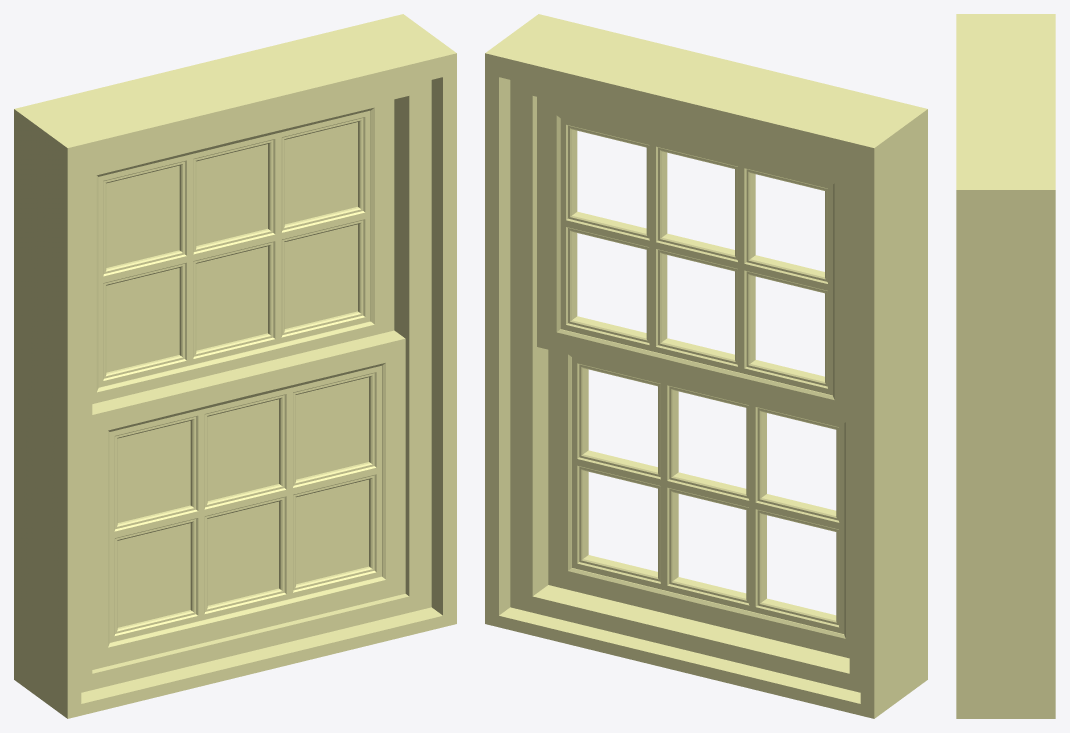
The model's file is MangaKa Props - M_R_Window_18.glb.
3 views of the same model, side by side, from view 1: azimuth 30°, elevation 25°; view 2: azimuth 150°, elevation 25°; view 3: azimuth 270°, elevation 25° (orthographic). The views are drawn at different scales.
Visible parts, largest first — view 1: M_R_Window_18_blueScreen, M_R_Window_18_Window1_blueScreen, M_R_Window_18_Window2Glass_blueScreen, M_R_Window_18_Window1Glass_blueScreen, M_R_Window_18_Window2_blueScreen; view 2: M_R_Window_18_blueScreen, M_R_Window_18_Window2_blueScreen, M_R_Window_18_Window1_blueScreen; view 3: M_R_Window_18_blueScreen.
Boxes of the visible parts, x1,y1,x2,y2 form: M_R_Window_18_blueScreen: (14,14,456,718); M_R_Window_18_Window1_blueScreen: (92,330,405,669); M_R_Window_18_Window2Glass_blueScreen: (106,122,357,372); M_R_Window_18_Window1Glass_blueScreen: (117,377,368,627); M_R_Window_18_Window2_blueScreen: (92,99,394,403); M_R_Window_18_blueScreen: (485,14,927,718); M_R_Window_18_Window2_blueScreen: (537,97,849,422); M_R_Window_18_Window1_blueScreen: (548,349,849,658); M_R_Window_18_blueScreen: (956,14,1055,718).
Bounding box in the file's own units: 0.713 × 0.9989 × 0.1701.
